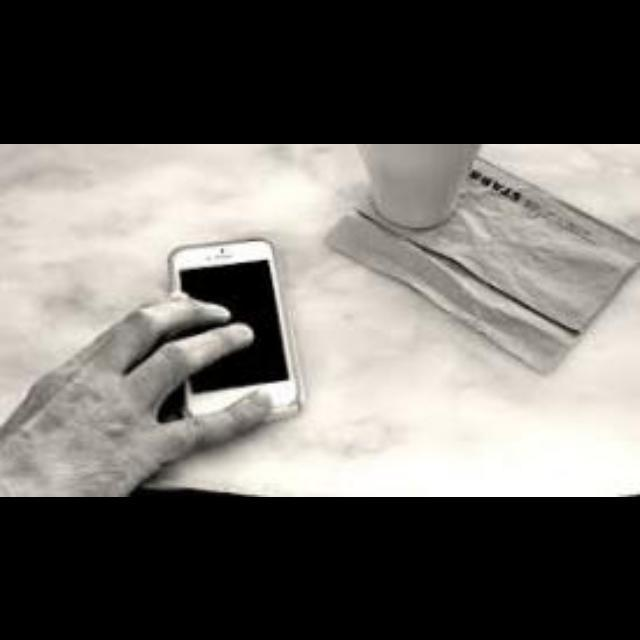PhoneUse: (160, 228, 306, 422)
